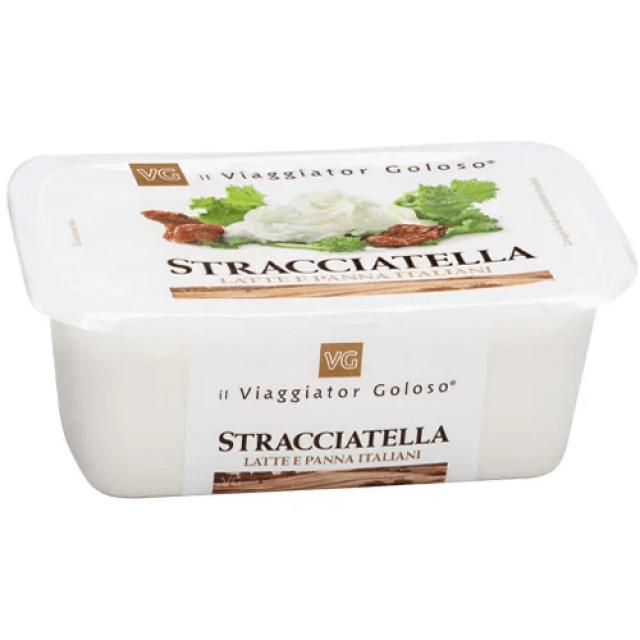Cheese: (5, 138, 640, 503)
